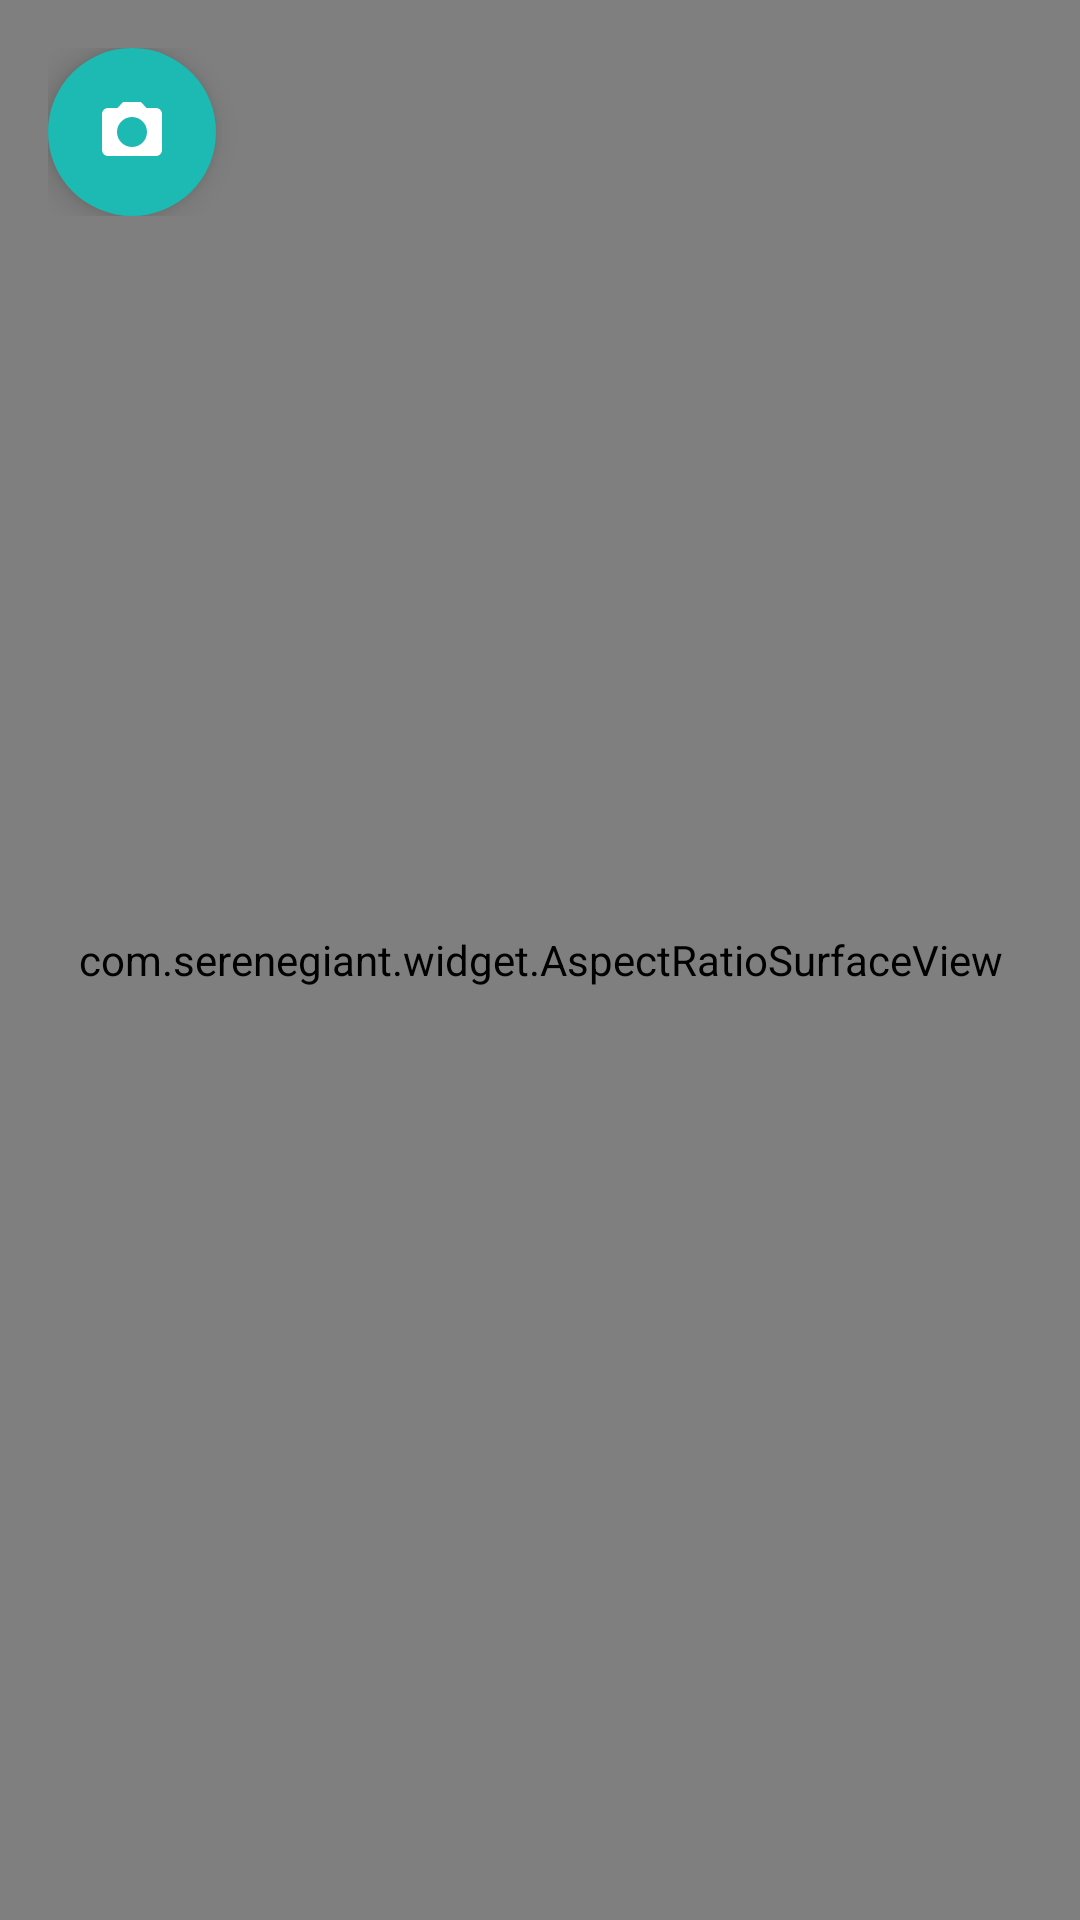

Icons on this 1080x1920 Android screen, each with its box as (x1, y1, x2, y2):
Capturar foto: (48, 48, 216, 216)
